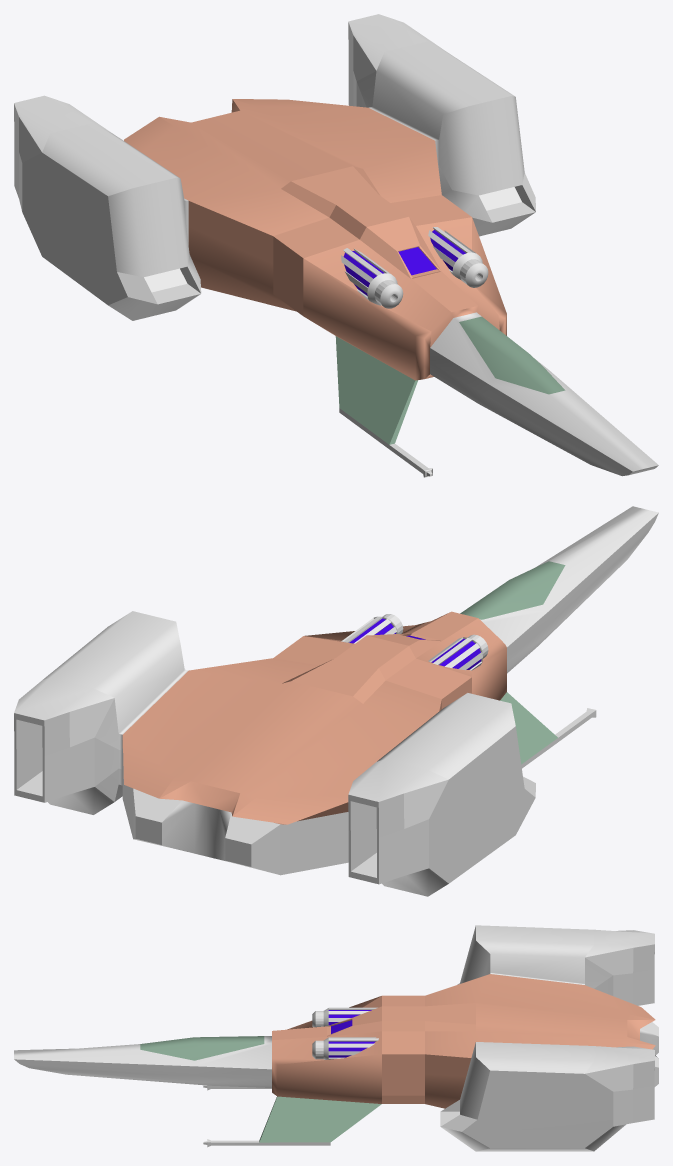
File: playership_01_incolor_01.fbx
The picture shows the model from 3 angles, top to bottom: view 1: azimuth 30°, elevation 25°; view 2: azimuth 150°, elevation 25°; view 3: azimuth 270°, elevation 25°; orthographic projection. The views are drawn at different scales.
Visible parts, largest first — view 1: polySurface1; view 2: polySurface1; view 3: polySurface1.
Part boxes in pixels (bbox=[...]): polySurface1: bbox=[14, 14, 658, 477]; polySurface1: bbox=[14, 506, 658, 896]; polySurface1: bbox=[14, 925, 658, 1151].
Bounding box in the file's own units: 11.08 × 4.6 × 21.29.
